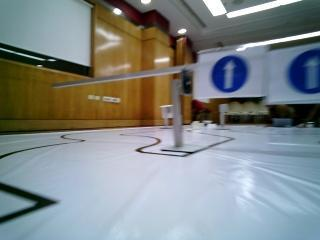straight: (272, 51, 320, 98), (202, 57, 264, 93)
